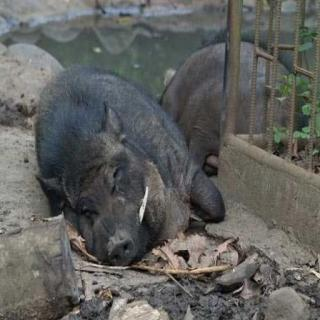Pig: (22, 48, 227, 268)
